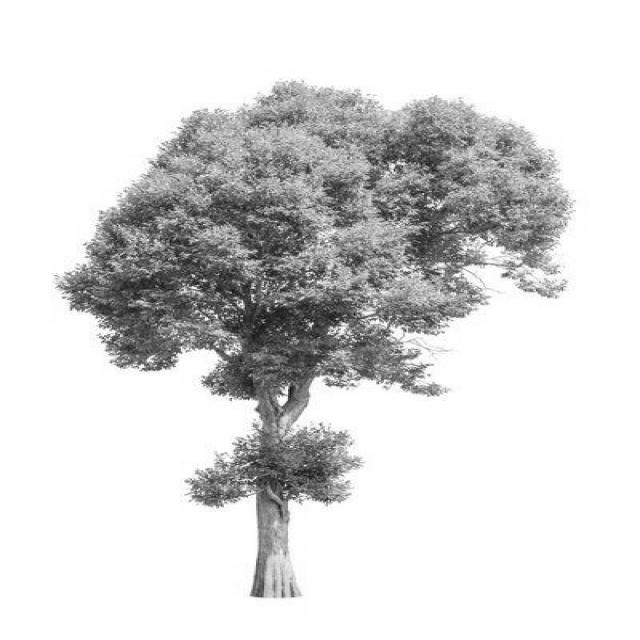Tree: (59, 82, 571, 599)
